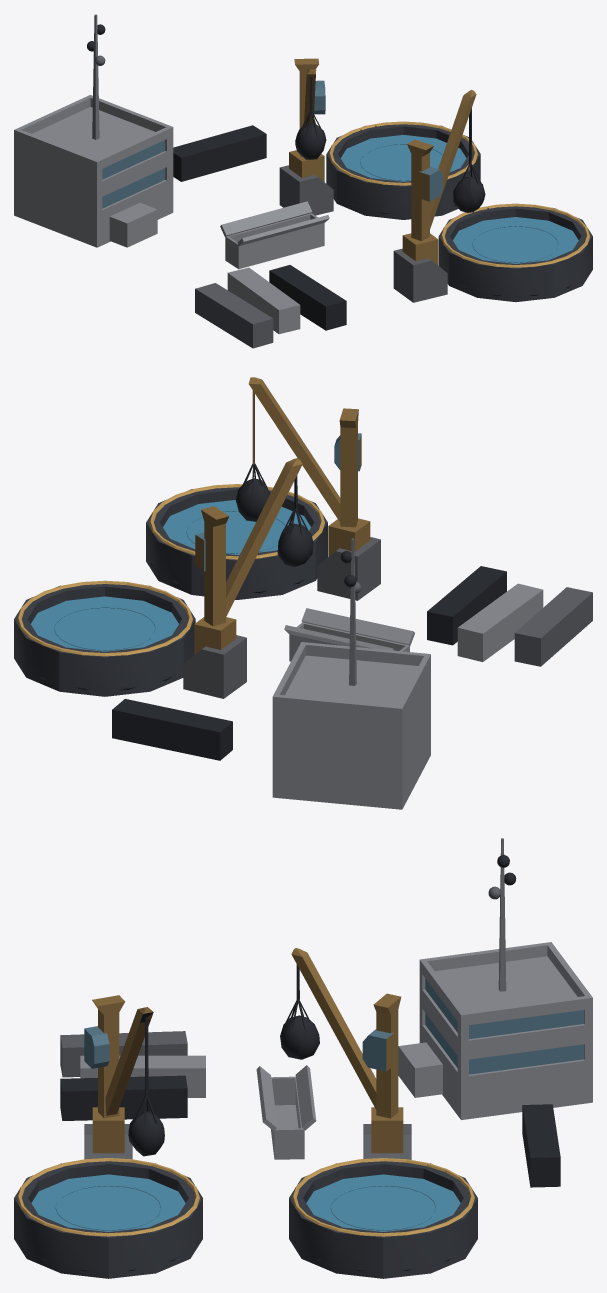
Rendered from fishing-site.glb.
The picture shows the model from 3 angles, top to bottom: view 1: azimuth 30°, elevation 25°; view 2: azimuth 150°, elevation 25°; view 3: azimuth 270°, elevation 25°; orthographic projection. The views are drawn at different scales.
Parts seen in each view (by area): view 1: Cube.007, Cylinder.001, Cylinder, Cube.010, Cube.011, Cube.002, Cube.009, Cube.005, Cube.006, Cube.001, Cube.008, Cube.003 (+3 smaller); view 2: Cube.007, Cylinder, Cylinder.001, Cube.003, Cube.010, Cube.002, Cube.001, Cube.009, Cube.008, Cube.005, Cube.011, Cube.006 (+3 smaller); view 3: Cube.007, Cylinder, Cylinder.001, Cube.003, Cube.010, Cube.011, Cube.006, Cube.002, Cube.008, Cube.009, Cube.001, Cube.005 (+3 smaller).
Part boxes in pixels (bbox=[...]): Cube.007: bbox=[14, 95, 173, 247]; Cylinder.001: bbox=[438, 206, 592, 302]; Cylinder: bbox=[326, 124, 480, 219]; Cube.010: bbox=[407, 90, 485, 241]; Cube.011: bbox=[220, 201, 329, 269]; Cube.002: bbox=[173, 125, 266, 181]; Cube.009: bbox=[195, 283, 273, 348]; Cube.005: bbox=[393, 233, 447, 302]; Cube.006: bbox=[269, 265, 346, 330]; Cube.001: bbox=[279, 150, 333, 215]; Cube.008: bbox=[227, 267, 300, 334]; Cube.003: bbox=[294, 58, 326, 159]; Cube.007: bbox=[272, 642, 430, 809]; Cylinder: bbox=[14, 584, 195, 696]; Cylinder.001: bbox=[146, 487, 327, 599]; Cube.003: bbox=[195, 458, 313, 626]; Cube.010: bbox=[235, 377, 361, 527]; Cube.002: bbox=[112, 699, 232, 760]; Cube.001: bbox=[183, 617, 246, 698]; Cube.009: bbox=[514, 587, 592, 666]; Cube.008: bbox=[457, 583, 543, 661]; Cube.005: bbox=[317, 518, 380, 600]; Cube.011: bbox=[284, 608, 414, 661]; Cube.006: bbox=[427, 566, 506, 645]; Cube.007: bbox=[398, 942, 592, 1119]; Cylinder: bbox=[289, 1161, 477, 1278]; Cylinder.001: bbox=[14, 1161, 202, 1278]; Cube.003: bbox=[280, 948, 401, 1118]; Cube.010: bbox=[84, 995, 164, 1156]; Cube.011: bbox=[256, 1065, 316, 1159]; Cube.006: bbox=[60, 1075, 187, 1120]; Cube.002: bbox=[522, 1104, 560, 1187]; Cube.008: bbox=[80, 1055, 205, 1097]; Cube.009: bbox=[60, 1031, 187, 1077]; Cube.001: bbox=[363, 1107, 411, 1159]; Cube.005: bbox=[84, 1107, 132, 1159].
Bounding box in the file's own units: 0.6521 × 0.3216 × 0.688.
